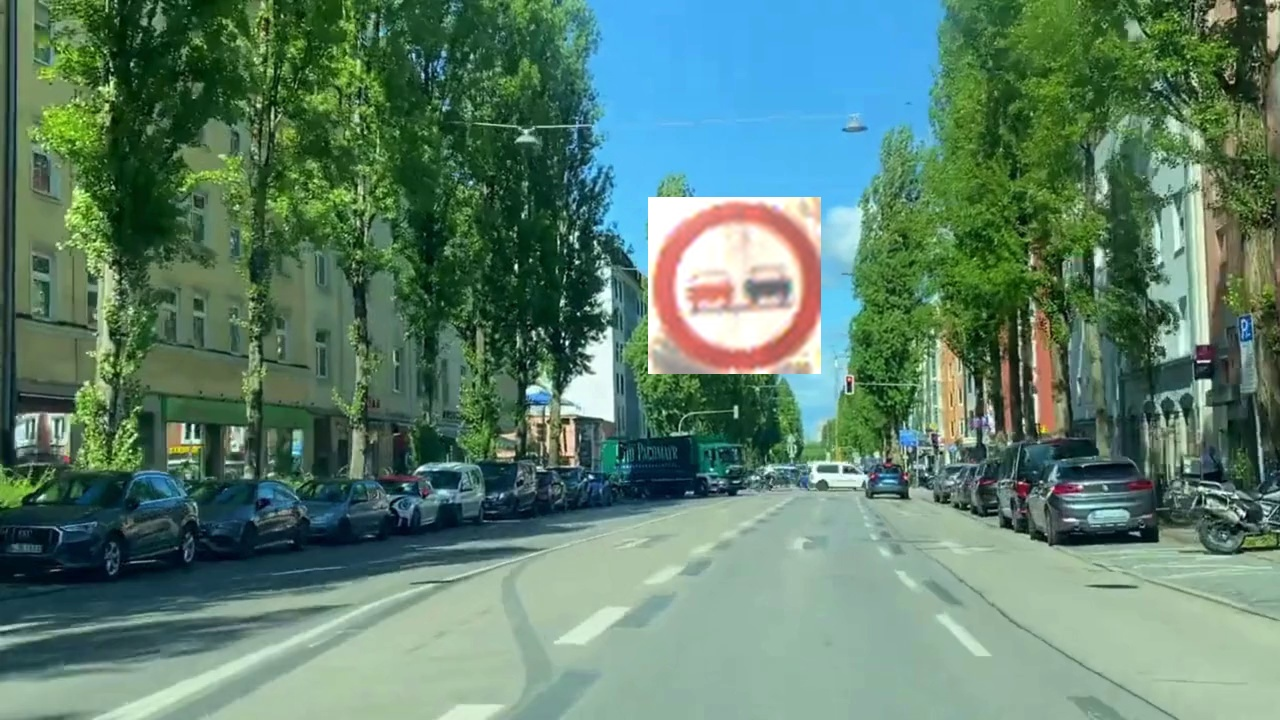No passing: (648, 197, 821, 374)
